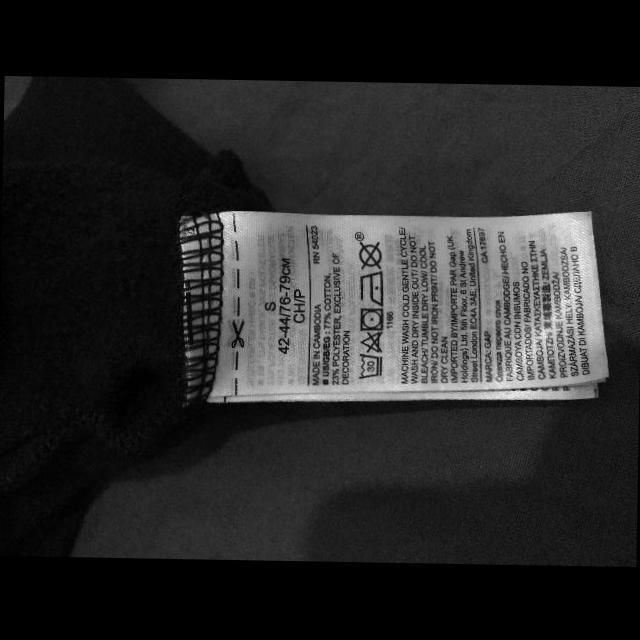30C: (358, 352, 382, 378)
DN_bleach: (358, 329, 382, 353)
DN_dry_clean: (356, 239, 382, 269)
iron_low: (358, 268, 384, 306)
tumble_dry_low: (359, 306, 383, 330)
